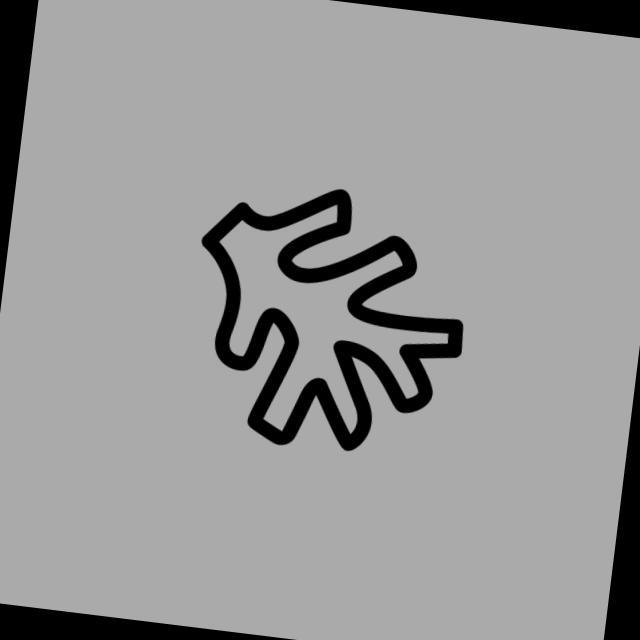coral: (171, 164, 487, 473)
